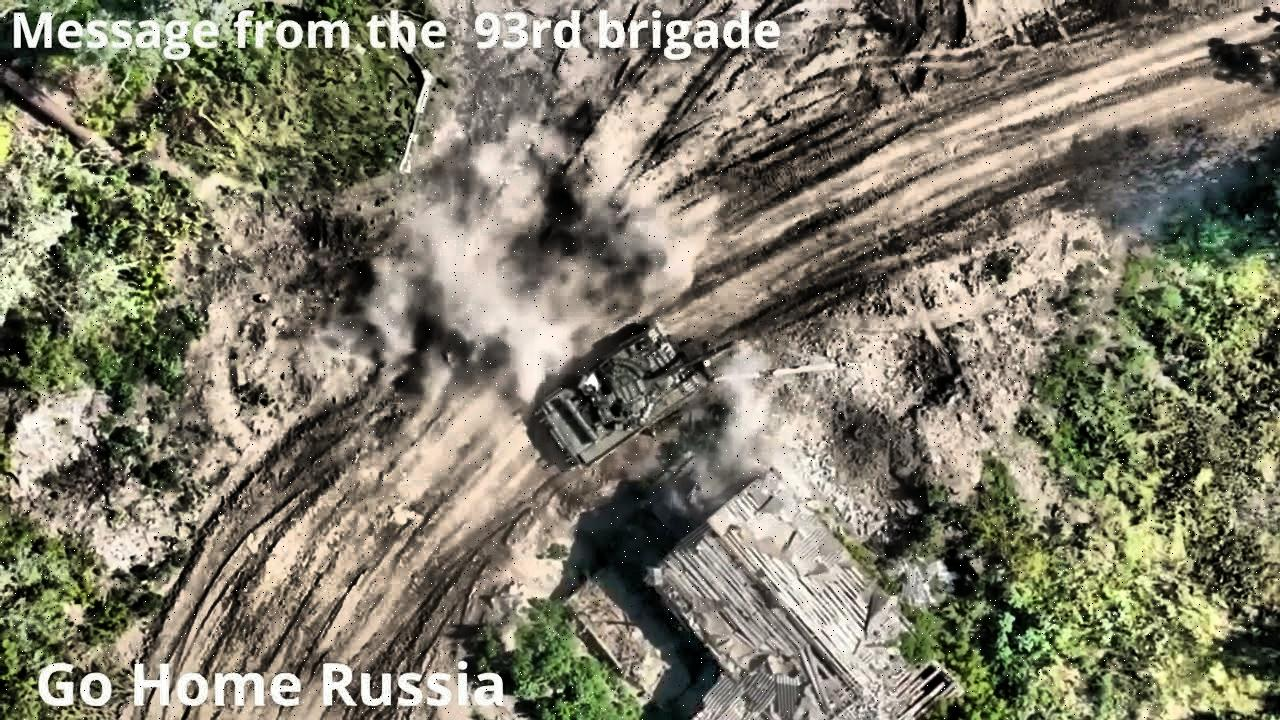military-vehicle: (536, 318, 739, 471)
